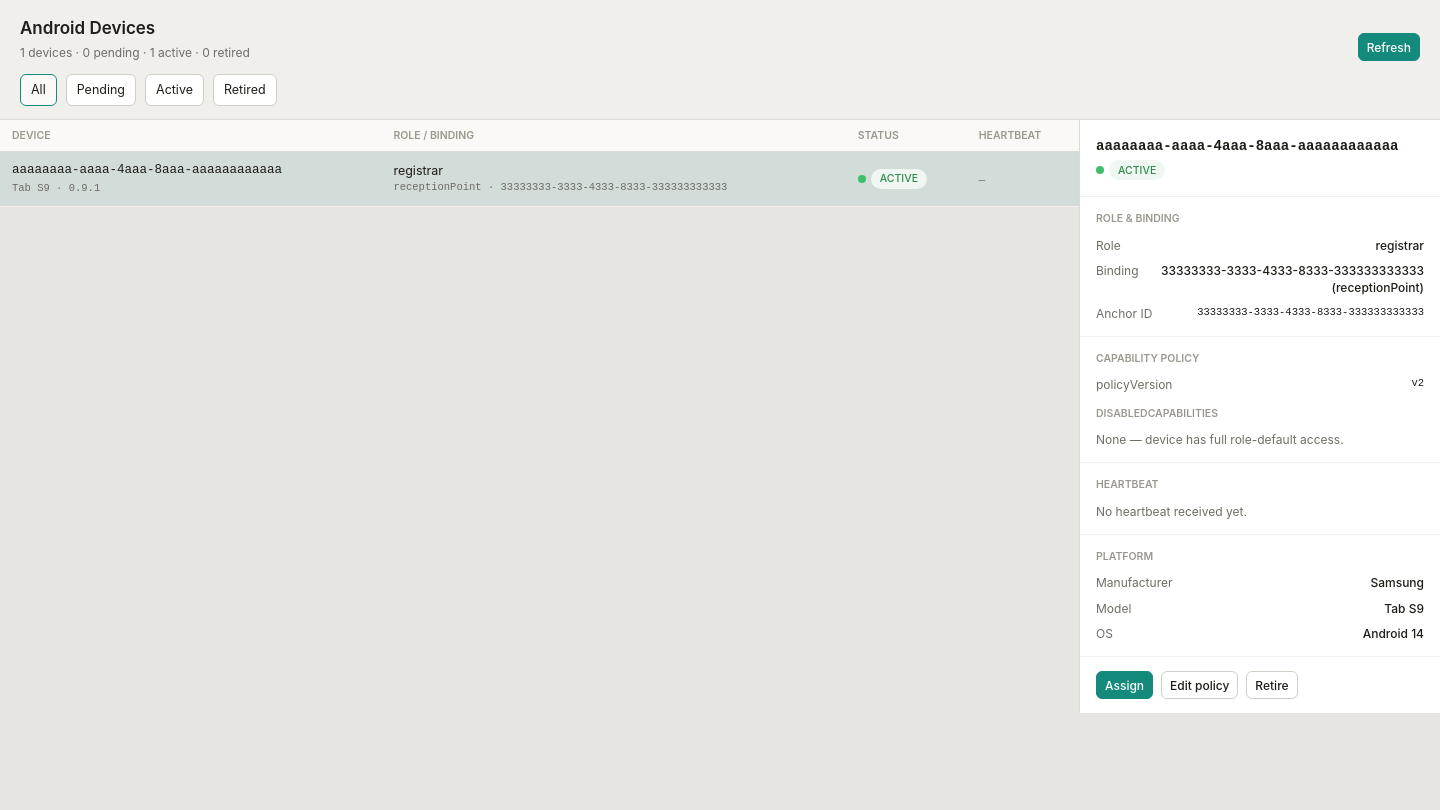
Scenario: device commands · live mode › 403 on a command renders the forbidden state, not a generic error
Click the button "Retire". click: coordinates (1272, 685)
box: [1246, 671, 1298, 699]
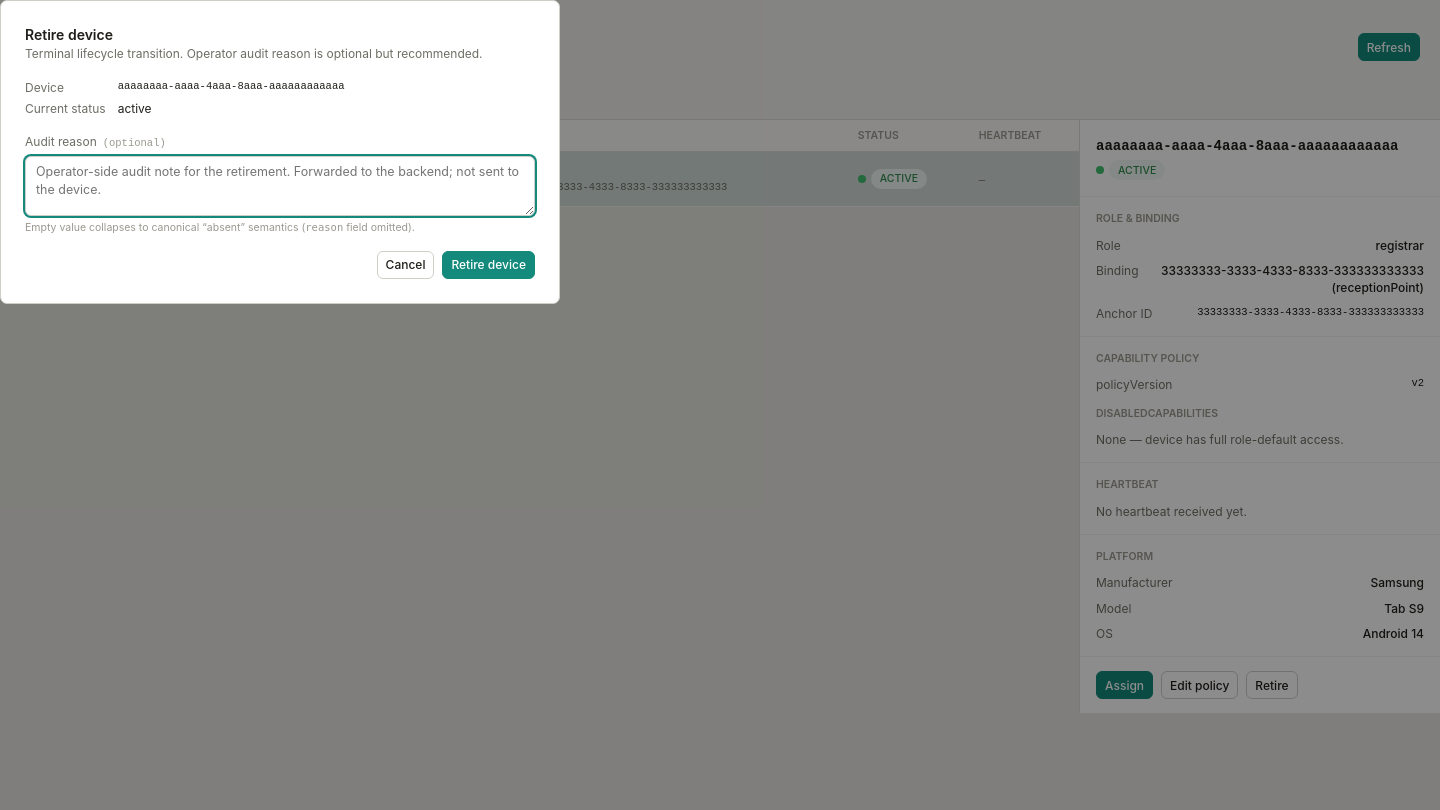
Click the button "Retire device". click: coordinates (489, 265)
box: [442, 251, 535, 279]
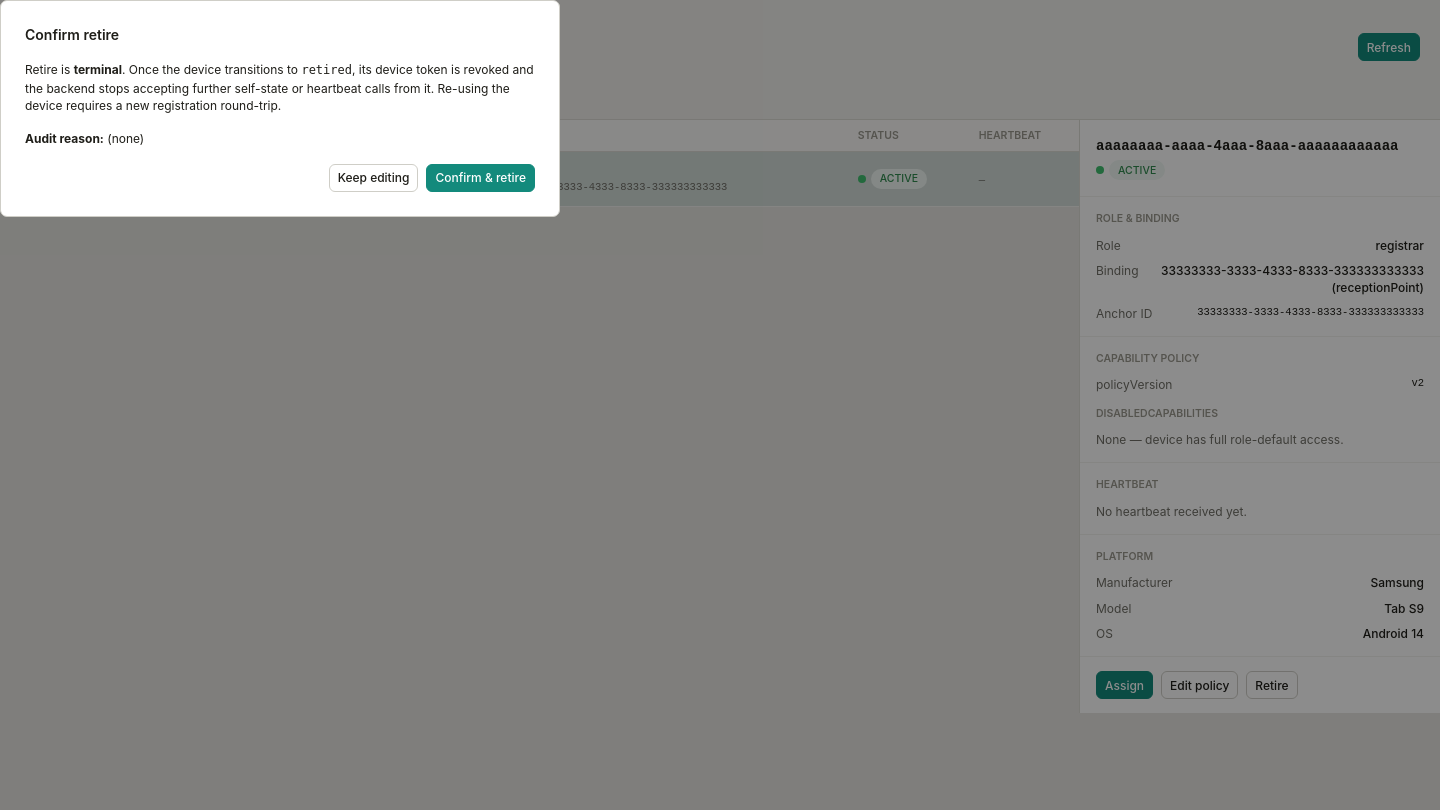
Click the button "Confirm & retire". click: coordinates (481, 178)
box: [426, 164, 535, 192]
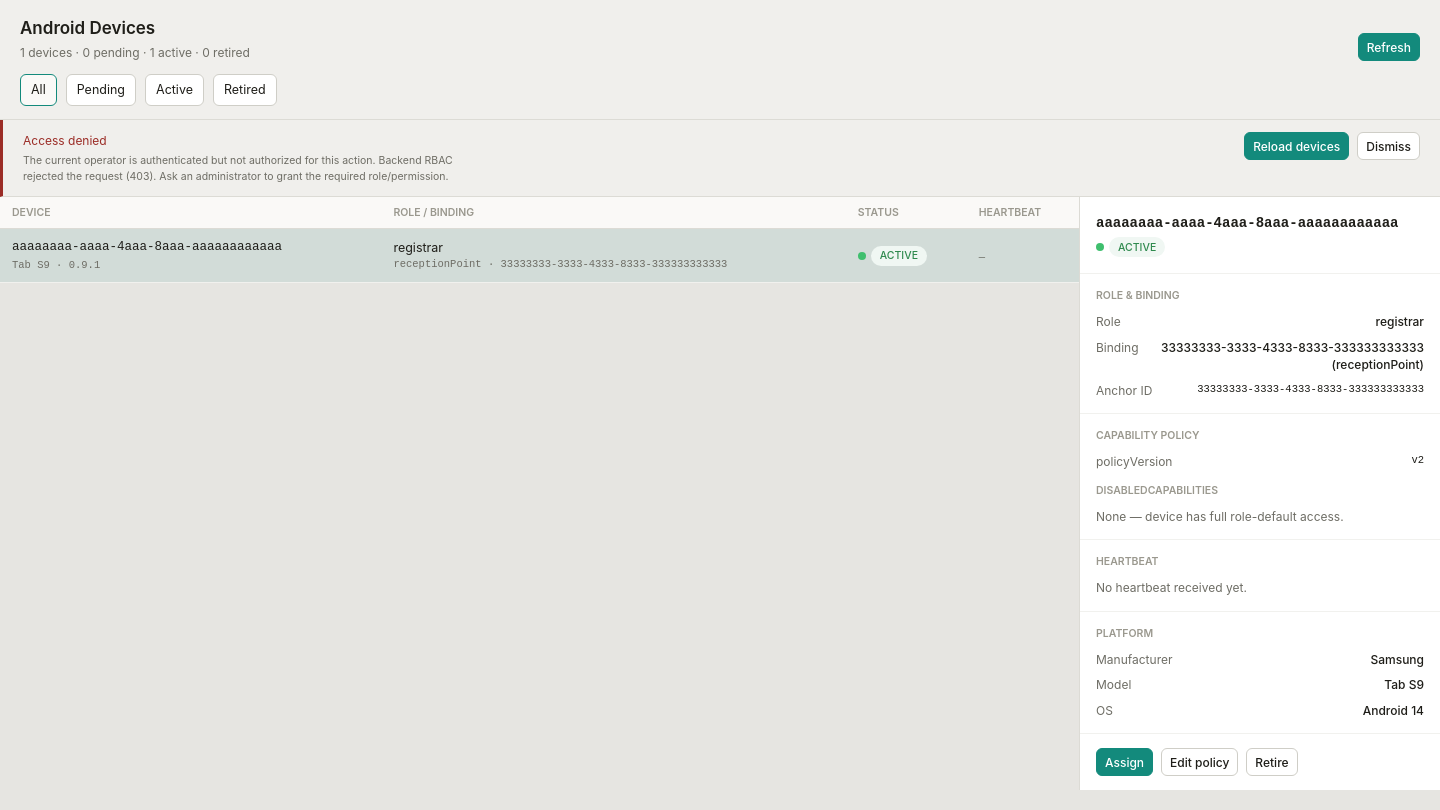
Expected: the message named "device command failed" shows "Access denied", [23, 133, 107, 148]
